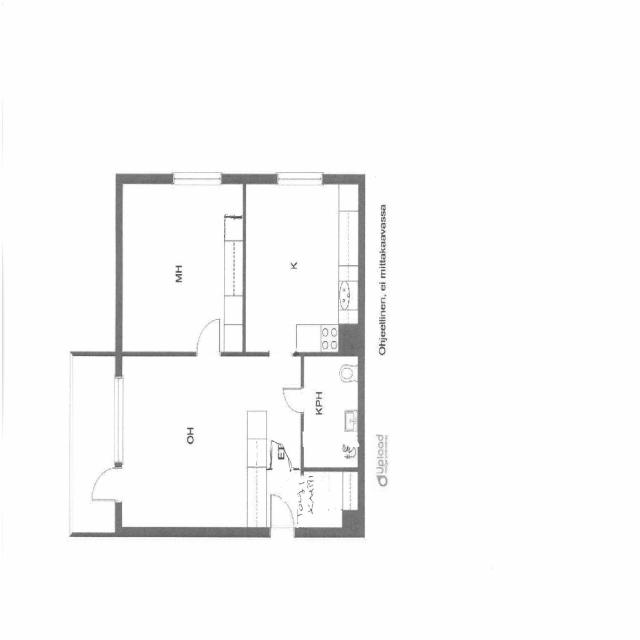door: (83, 461, 132, 505), (267, 489, 298, 536), (195, 314, 223, 356), (278, 380, 308, 417), (268, 437, 292, 470)
window: (108, 369, 128, 470), (167, 166, 226, 191), (271, 166, 327, 191)
zone: (119, 353, 276, 534), (118, 179, 246, 354), (241, 176, 362, 352), (302, 349, 360, 468)
